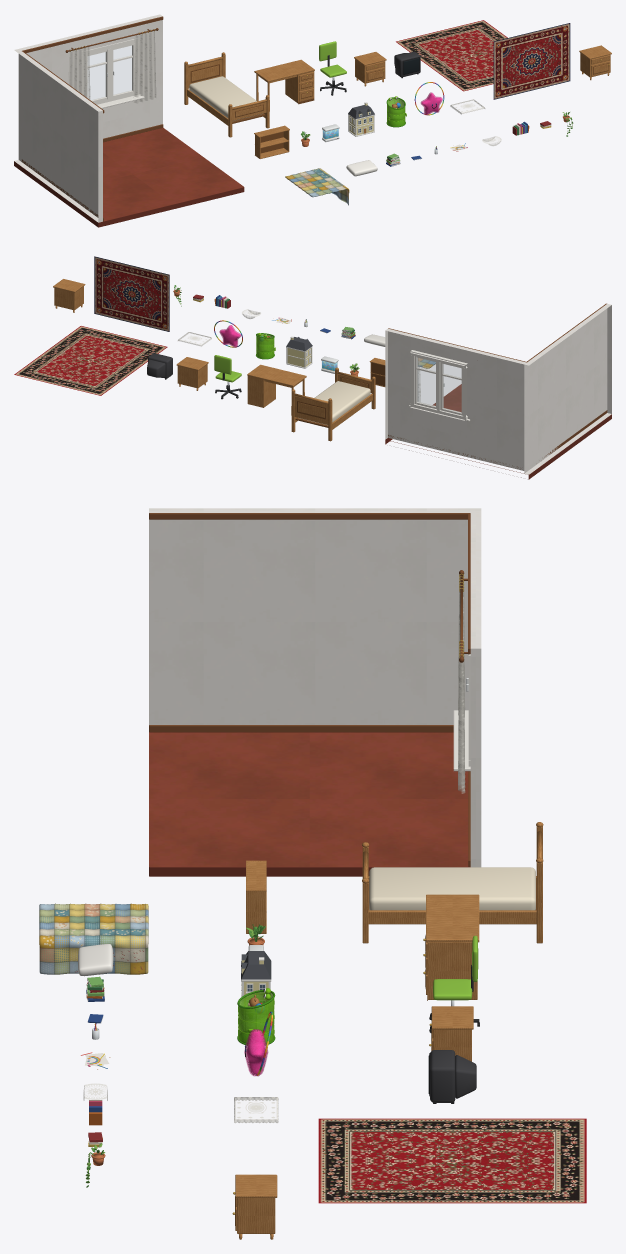
File: room.glb
3 views of the same model, one above another, from view 1: azimuth 30°, elevation 25°; view 2: azimuth 150°, elevation 25°; view 3: azimuth 270°, elevation 25° (orthographic). The views are drawn at different scales.
Visible parts, largest first — view 1: Room_Wall_Left, Room_Floor, Room_Wall_Back, Rug_Wall, Rug_Floor, Bed, Room_Window, Desk, Room_Curtain_R, Blanket, Wall_Shelf, Room_Curtain_L (+8 smaller); view 2: Room_Wall_Back, Room_Wall_Left, Rug_Floor, Rug_Wall, Room_Window, Bed, Desk, Room_Floor, Nightstand_TV, Nightstand_Dollhouse, Dollhouse, Chair (+4 smaller); view 3: Room_Wall_Left, Room_Floor, Rug_Floor, Bed, Blanket, Room_Wall_Back, Desk, Nightstand_Dollhouse, TV, Nightstand_TV, Frog_Basket, Wall_Shelf (+5 smaller).
Boxes of the visible parts, x1,y1,x2,y2 form: Room_Wall_Left: [14, 49, 104, 222]; Room_Floor: [14, 127, 244, 227]; Room_Wall_Back: [19, 14, 163, 142]; Rug_Wall: [493, 23, 570, 99]; Rug_Floor: [396, 20, 507, 91]; Bed: [184, 52, 269, 137]; Room_Window: [82, 38, 144, 108]; Desk: [254, 59, 314, 111]; Room_Curtain_R: [133, 31, 156, 103]; Blanket: [285, 168, 349, 205]; Wall_Shelf: [254, 125, 289, 158]; Room_Curtain_L: [68, 47, 90, 99]; Room_Wall_Back: [385, 328, 526, 470]; Room_Wall_Left: [524, 303, 611, 474]; Rug_Floor: [14, 326, 167, 395]; Rug_Wall: [94, 256, 169, 331]; Room_Window: [409, 350, 470, 421]; Bed: [291, 367, 375, 441]; Desk: [247, 364, 306, 415]; Room_Floor: [385, 384, 611, 479]; Nightstand_TV: [176, 357, 208, 390]; Nightstand_Dollhouse: [53, 279, 85, 312]; Dollhouse: [286, 336, 312, 368]; Chair: [214, 355, 241, 399]; Room_Wall_Left: [149, 508, 481, 732]; Room_Floor: [149, 732, 470, 876]; Rug_Floor: [318, 1118, 586, 1203]; Bed: [362, 822, 543, 943]; Blanket: [39, 903, 148, 974]; Room_Wall_Back: [468, 513, 481, 867]; Desk: [423, 894, 479, 1000]; Nightstand_Dollhouse: [232, 1174, 277, 1239]; TV: [428, 1050, 476, 1103]; Nightstand_TV: [429, 1006, 473, 1061]; Frog_Basket: [237, 988, 275, 1045]; Wall_Shelf: [246, 860, 266, 933].
Size of the model in its own units: 13.64 by 3.11 by 6.13.
Materials: 69 (20 with a texture image).
